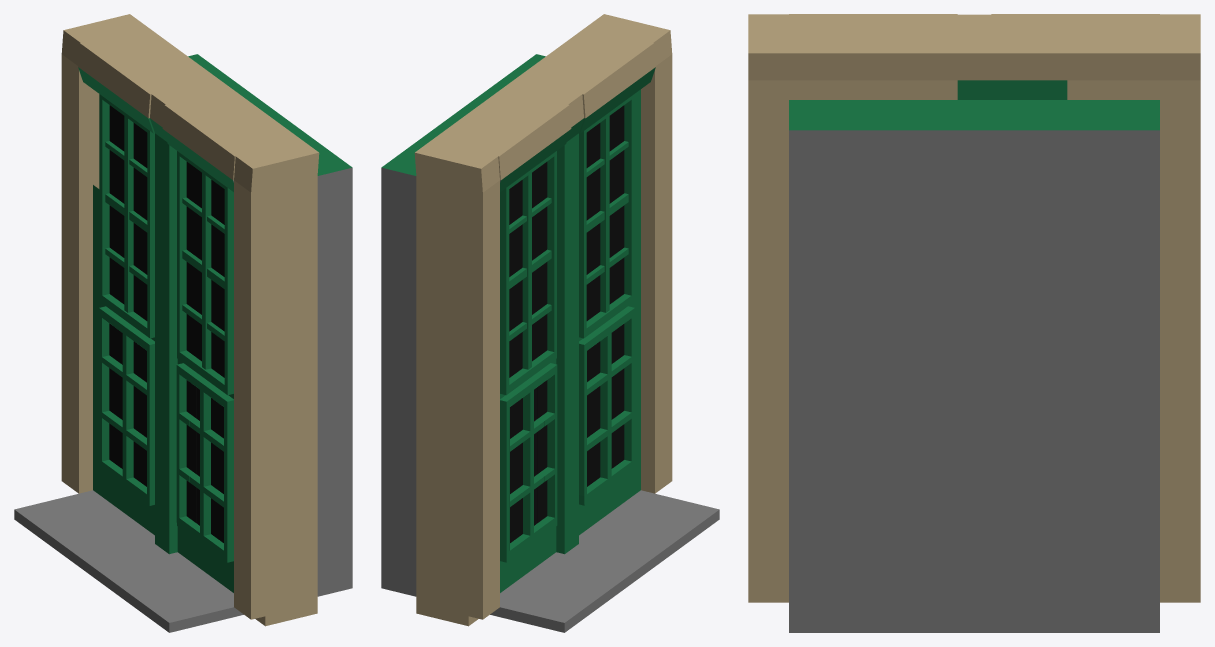
Rendered from DoorDoubleBalcony.fbx.
3 renders of one model, left to right at view 1: azimuth 30°, elevation 25°; view 2: azimuth 150°, elevation 25°; view 3: azimuth 270°, elevation 25°, orthographic. The views are drawn at different scales.
Visible parts, largest first — view 1: DoubleBalconyDoor; view 2: DoubleBalconyDoor; view 3: DoubleBalconyDoor.
Boxes of the visible parts, left/top/right/bottom form: DoubleBalconyDoor: left=14, top=14, right=352, bottom=632; DoubleBalconyDoor: left=381, top=14, right=719, bottom=632; DoubleBalconyDoor: left=748, top=14, right=1200, bottom=632.
Bounding box in the file's own units: 34.52 × 82.87 × 61.78.
